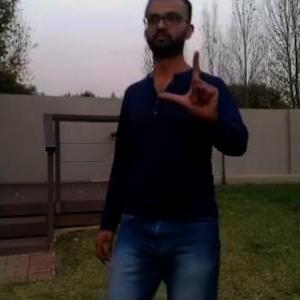land_hand: (157, 45, 222, 123)
